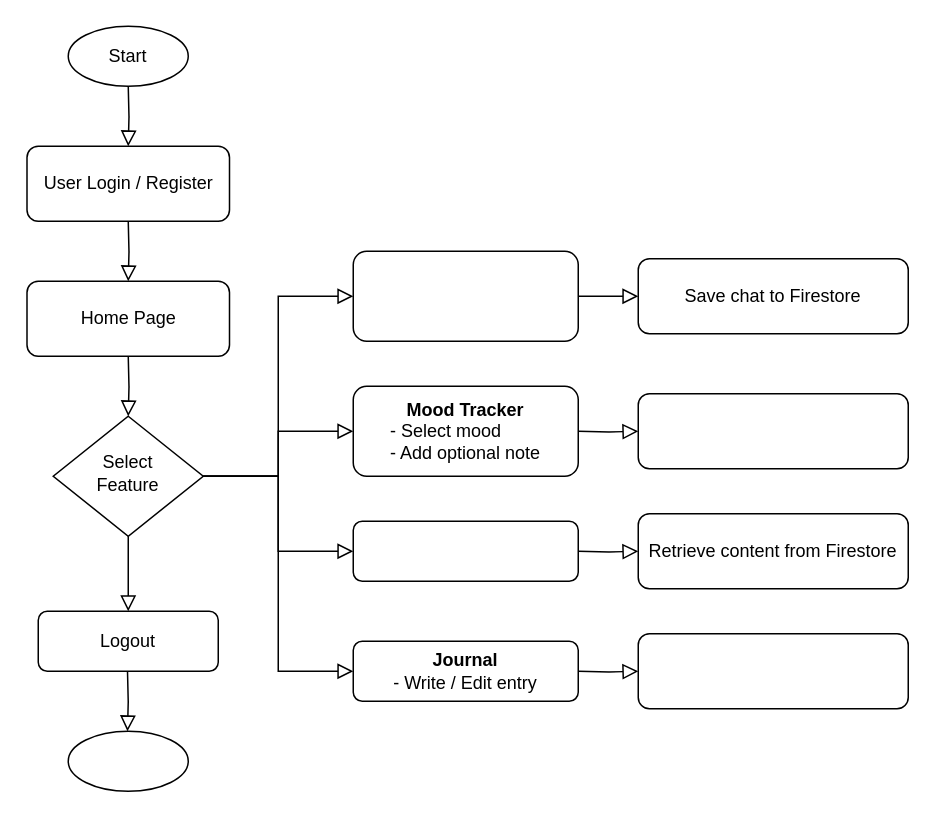
The diagram is 935 pixels wide and 818 high, and some of its shapes have lost their labels. The shapes that lost their labels are listed below. From the top down, each one's centre as x and y in pixels, then its label:
At pixel 465 295: "AI Chat - Send message - Receive response".
At pixel 772 430: "Save mood log to Firestore".
At pixel 465 550: "View Resources".
At pixel 772 670: "Save journal entry to Firestore".
At pixel 127 760: "End".
